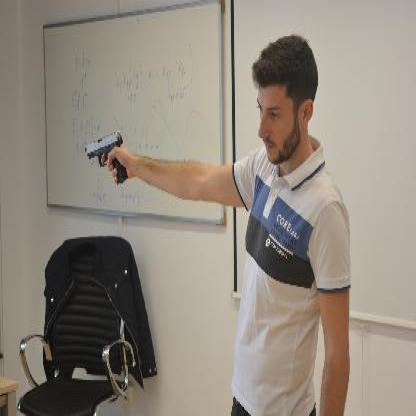pistol: (84, 128, 127, 183)
